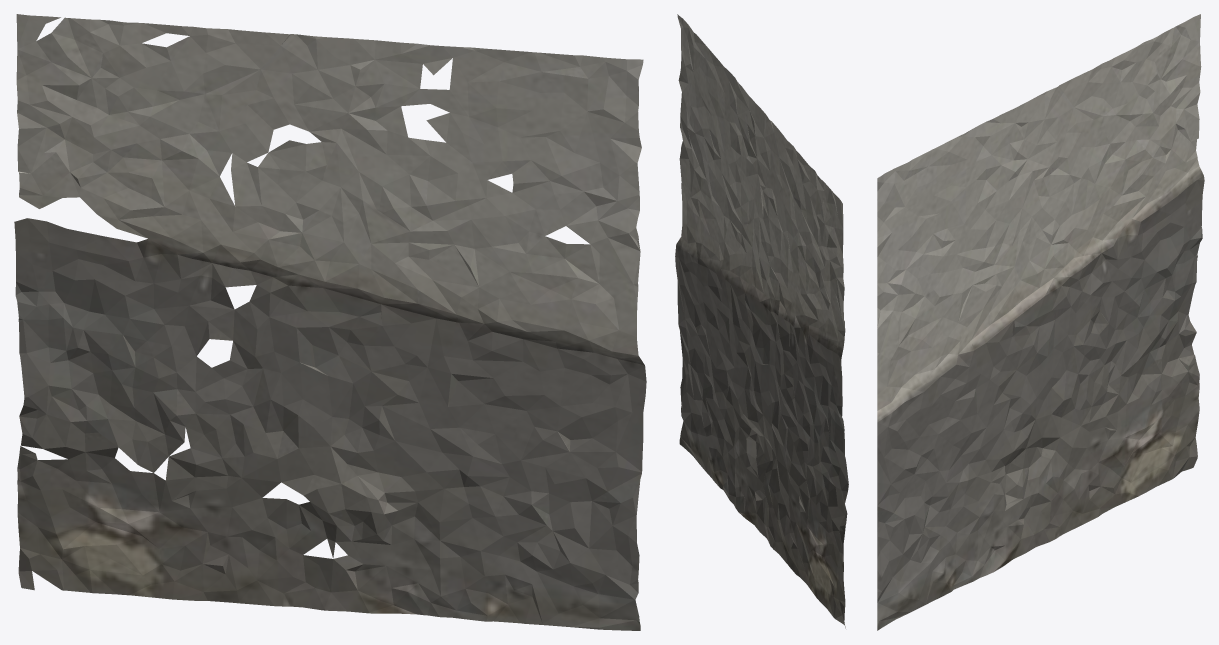
3 views of the same model, side by side, from view 1: azimuth 30°, elevation 25°; view 2: azimuth 150°, elevation 25°; view 3: azimuth 270°, elevation 25° (orthographic). The views are drawn at different scales.
Size of the model in its own units: 0.6548 by 0.8374 by 0.5473.
Materials: 3 (3 with a texture image).
